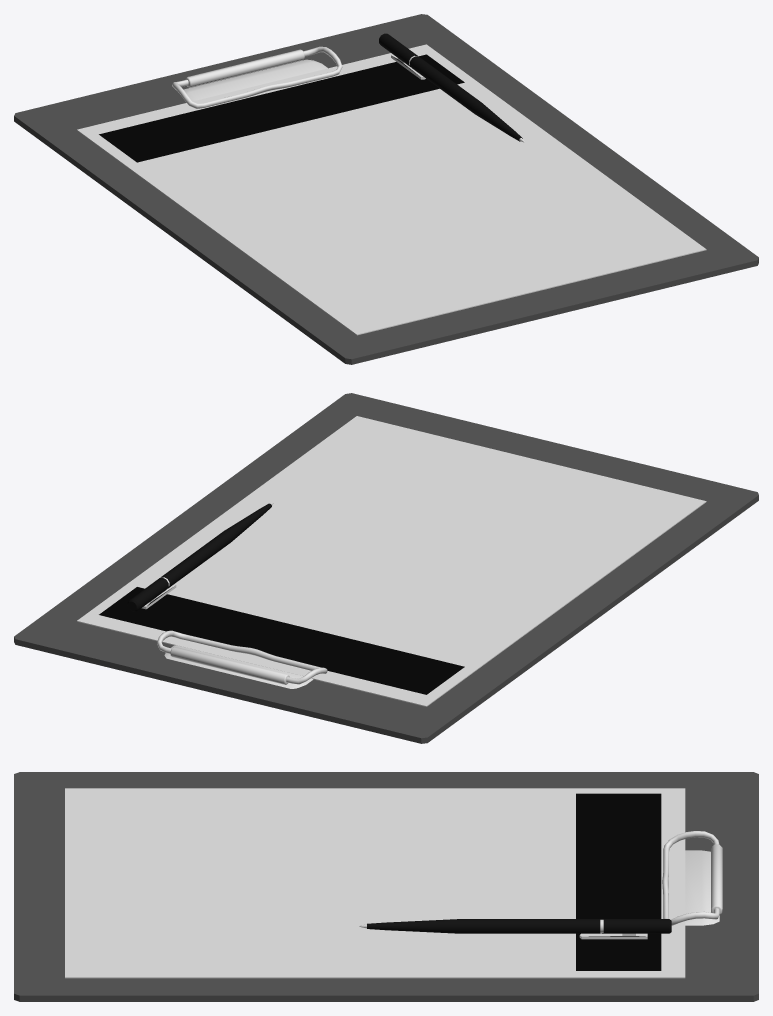
File: Pad&Pen.fbx
3 views of the same model, one above another, from view 1: azimuth 30°, elevation 25°; view 2: azimuth 150°, elevation 25°; view 3: azimuth 270°, elevation 25° (orthographic). The views are drawn at different scales.
Parts seen in each view (by area): view 1: Pad, Pen; view 2: Pad, Pen; view 3: Pad, Pen.
Part boxes in pixels (left/top/right/bottom): Pad: left=14, top=14, right=758, bottom=364; Pen: left=379, top=33, right=524, bottom=142; Pad: left=14, top=393, right=758, bottom=743; Pen: left=127, top=503, right=273, bottom=611; Pad: left=14, top=772, right=758, bottom=1001; Pen: left=359, top=919, right=671, bottom=939.
Bounding box in the file's own units: 21.97 × 1.76 × 30.93.
